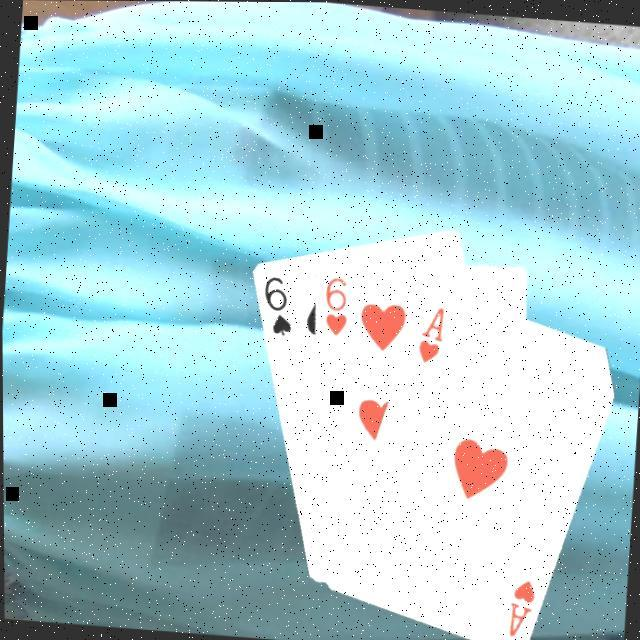6H: (316, 272, 350, 340)
6S: (254, 272, 295, 340)
AH: (410, 302, 444, 368), (501, 576, 535, 640)
